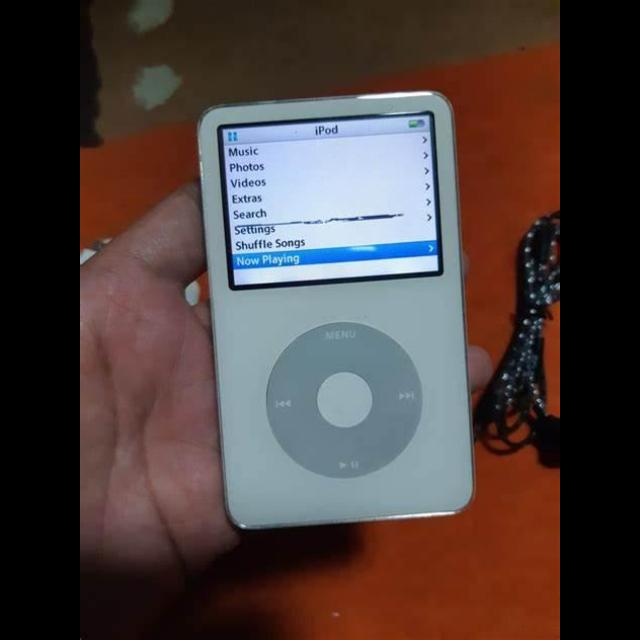Music-Player: (186, 84, 484, 538)
